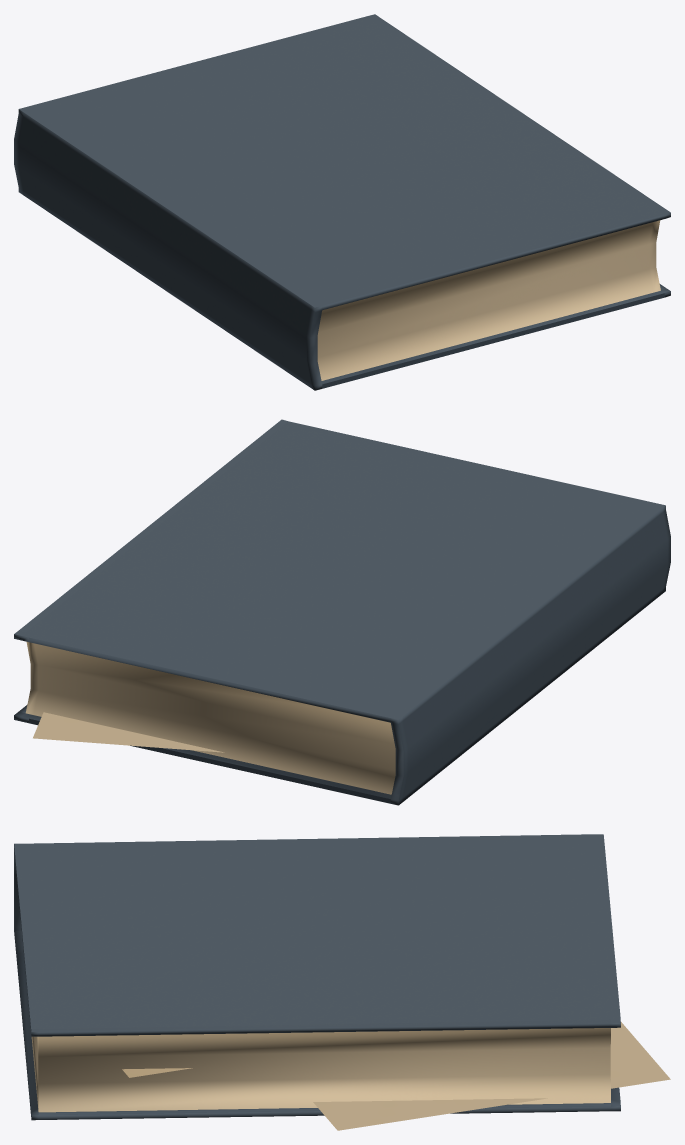
File: Book.fbx
The picture shows the model from 3 angles, top to bottom: view 1: azimuth 30°, elevation 25°; view 2: azimuth 150°, elevation 25°; view 3: azimuth 270°, elevation 25°; orthographic projection. The views are drawn at different scales.
Parts seen in each view (by area): view 1: Plane.067; view 2: Plane.067; view 3: Plane.067.
Boxes of the visible parts, left/top/right/bottom form: Plane.067: left=14, top=14, right=670, bottom=390; Plane.067: left=14, top=419, right=670, bottom=805; Plane.067: left=14, top=834, right=670, bottom=1130.
Size of the model in its own units: 56.21 by 10.5 by 70.62.
